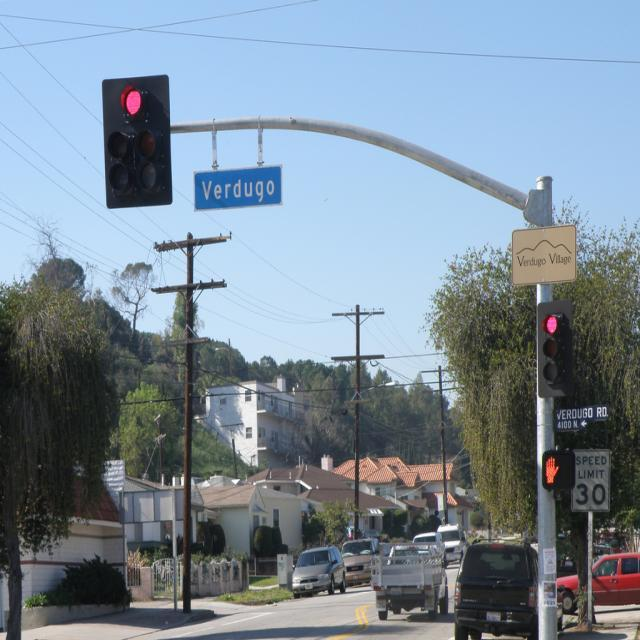traffic light: (101, 74, 173, 209), (537, 297, 575, 396), (540, 448, 575, 492)
